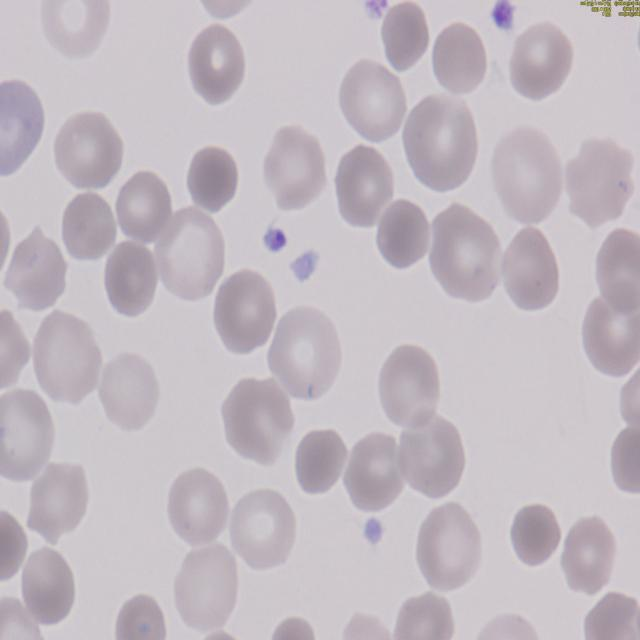Platelets: (289, 244, 324, 285), (360, 510, 388, 546), (486, 0, 518, 28)
RBC: (397, 90, 482, 194), (489, 124, 567, 230), (425, 204, 503, 304), (151, 204, 226, 305), (268, 301, 344, 400), (562, 132, 638, 230), (30, 308, 104, 406), (218, 375, 295, 468), (415, 502, 488, 598), (224, 486, 298, 578), (337, 58, 410, 150), (394, 412, 466, 504), (172, 541, 241, 636), (48, 110, 122, 198), (211, 264, 278, 356), (260, 127, 330, 215), (373, 340, 441, 430), (340, 426, 410, 513), (504, 19, 574, 105), (0, 386, 60, 485), (21, 462, 90, 548), (494, 224, 560, 313), (330, 142, 396, 229), (166, 466, 231, 554), (1, 234, 69, 318), (580, 291, 640, 384), (95, 350, 159, 436), (184, 23, 249, 106), (533, 511, 606, 581), (99, 239, 161, 321), (56, 190, 117, 270), (374, 198, 435, 278), (36, 0, 114, 62), (560, 516, 618, 598), (20, 544, 76, 628), (589, 228, 640, 320), (115, 168, 173, 246), (375, 0, 430, 77), (108, 588, 172, 640), (392, 591, 458, 640), (581, 589, 640, 640), (0, 308, 31, 397), (610, 416, 640, 506), (332, 613, 402, 640), (0, 602, 47, 640), (259, 615, 330, 640), (196, 0, 260, 21)
Spherocyte: (426, 15, 486, 100), (182, 144, 241, 220), (290, 428, 350, 502), (506, 504, 562, 572), (0, 501, 29, 590)
WBC: (0, 67, 54, 183)
